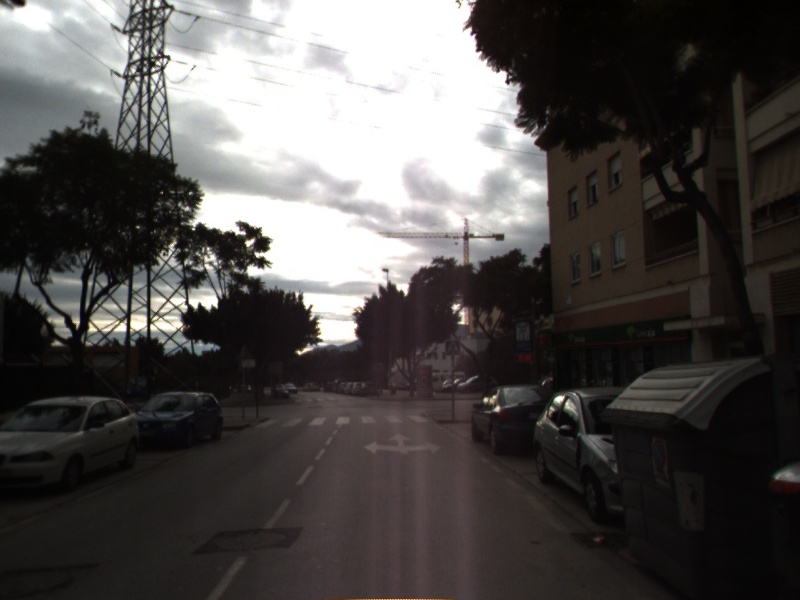STRAIGHT_LEFT_RIGHT: (362, 430, 444, 456)
